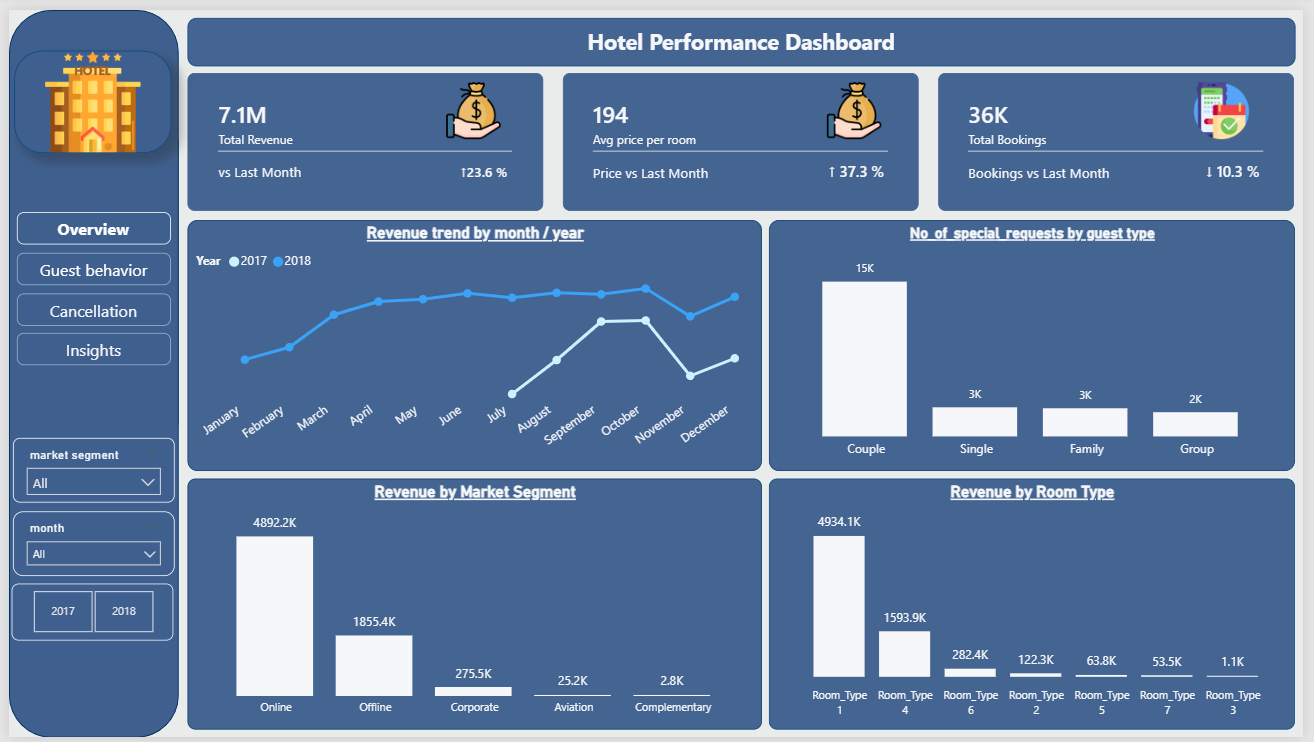

This screenshot's page, from the dashboard's own definition file:
{"tool":"powerbi","page":{"name":"Overview","canvas":[1280,720],"ordinal":0},"visuals":[{"type":"cardVisual","fields":{"Data":["fact Booking.Total Bookings"]},"box":[920,62.2,352,136],"z":0},{"type":"cardVisual","fields":{"Data":["fact Booking.Total Revenue"]},"box":[176,62.2,352,136],"z":1000},{"type":"clusteredColumnChart","title":"Revenue by Market Segment","fields":{"Category":["Dim market.market_segment_type"],"Y":["fact Booking.Total Revenue"]},"box":[176,464,568,248],"z":2000},{"type":"shape","box":[0,0,168,720],"z":3000},{"type":"shape","box":[8,200,152,32],"z":4000},{"type":"clusteredColumnChart","title":"Revenue by Room Type","fields":{"Y":["fact Booking.Total Revenue"],"Category":["Dim room.room_type_reserved"]},"box":[752,464,520,248],"z":5000},{"type":"textbox","box":[24,200,120,32],"z":6000},{"type":"textbox","box":[176,8,1096,48],"z":7000},{"type":"image","box":[5.7,40,155.7,101.4],"z":8000},{"type":"lineChart","title":" Revenue trend by month / year","fields":{"Category":["Dim date.arrival_month_name"],"Series":["Dim date.arrival_year"],"Y":["fact Booking.Total Revenue"]},"box":[176,208,568,248],"z":9000},{"type":"image","box":[1160,72,80,56],"z":10000},{"type":"group","id":"g1","title":"Group 1","box":[8,280,152,32],"z":11000},{"type":"image","box":[424,72,72,56],"z":12000},{"type":"group","id":"g2","title":"Group 1","box":[8,240,152,32],"z":13000},{"type":"group","id":"g3","title":"Group 1","box":[8,320,152,32],"z":14000},{"type":"slicer","fields":{"Values":["Dim market.market_segment_type"]},"box":[3.4,424,160,64],"z":15000},{"type":"shape","box":[8,240,152,32],"z":16000,"group":"g2"},{"type":"shape","box":[8,280,152,32],"z":16000,"group":"g1"},{"type":"shape","box":[8,320,152,32],"z":16000,"group":"g3"},{"type":"slicer","fields":{"Values":["Dim date.arrival_month"]},"box":[3.4,496,160,64],"z":16000},{"type":"clusteredColumnChart","title":"No_of_special_requests by guest type","fields":{"Category":["fact Booking.Guest_Type"],"Y":["Sum(fact Booking.no_of_special_requests)"]},"box":[752,208,520,248],"z":17000},{"type":"textbox","box":[16,240,136,32],"z":17000,"group":"g2"},{"type":"textbox","box":[16,280,136,32],"z":17000,"group":"g1"},{"type":"textbox","box":[16,320,136,32],"z":17000,"group":"g3"},{"type":"slicer","fields":{"Values":["Dim date.arrival_year"]},"box":[3.1,568,160,56],"z":18000},{"type":"cardVisual","fields":{"Data":["fact Booking.Avg price per room"]},"box":[548,62.2,352,136],"z":19000},{"type":"image","box":[800,72,72,56],"z":20000}]}

Visuals, with their boxes in screenshot pixels (x1, y1, x2, y2), scaled from the page's 1280x720 canvas onto the 1314x742 screenshot:
cardVisual - fact Booking.Total Bookings: (left=944, top=64, right=1306, bottom=204)
cardVisual - fact Booking.Total Revenue: (left=181, top=64, right=542, bottom=204)
"Revenue by Market Segment" clusteredColumnChart: (left=181, top=478, right=764, bottom=734)
shape: (left=0, top=0, right=172, bottom=741)
shape: (left=8, top=206, right=164, bottom=239)
"Revenue by Room Type" clusteredColumnChart: (left=772, top=478, right=1306, bottom=734)
textbox: (left=25, top=206, right=148, bottom=239)
textbox: (left=181, top=8, right=1306, bottom=58)
image: (left=6, top=41, right=166, bottom=146)
" Revenue trend by month / year" lineChart: (left=181, top=214, right=764, bottom=470)
image: (left=1191, top=74, right=1273, bottom=132)
"Group 1" group: (left=8, top=289, right=164, bottom=322)
image: (left=435, top=74, right=509, bottom=132)
"Group 1" group: (left=8, top=247, right=164, bottom=280)
"Group 1" group: (left=8, top=330, right=164, bottom=363)
slicer - Dim market.market_segment_type: (left=3, top=437, right=168, bottom=503)
shape: (left=8, top=247, right=164, bottom=280)
shape: (left=8, top=289, right=164, bottom=322)
shape: (left=8, top=330, right=164, bottom=363)
slicer - Dim date.arrival_month: (left=3, top=511, right=168, bottom=577)
"No_of_special_requests by guest type" clusteredColumnChart: (left=772, top=214, right=1306, bottom=470)
textbox: (left=16, top=247, right=156, bottom=280)
textbox: (left=16, top=289, right=156, bottom=322)
textbox: (left=16, top=330, right=156, bottom=363)
slicer - Dim date.arrival_year: (left=3, top=585, right=167, bottom=643)
cardVisual - fact Booking.Avg price per room: (left=563, top=64, right=924, bottom=204)
image: (left=821, top=74, right=895, bottom=132)
